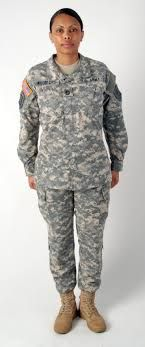uniform: (24, 58, 122, 311)
